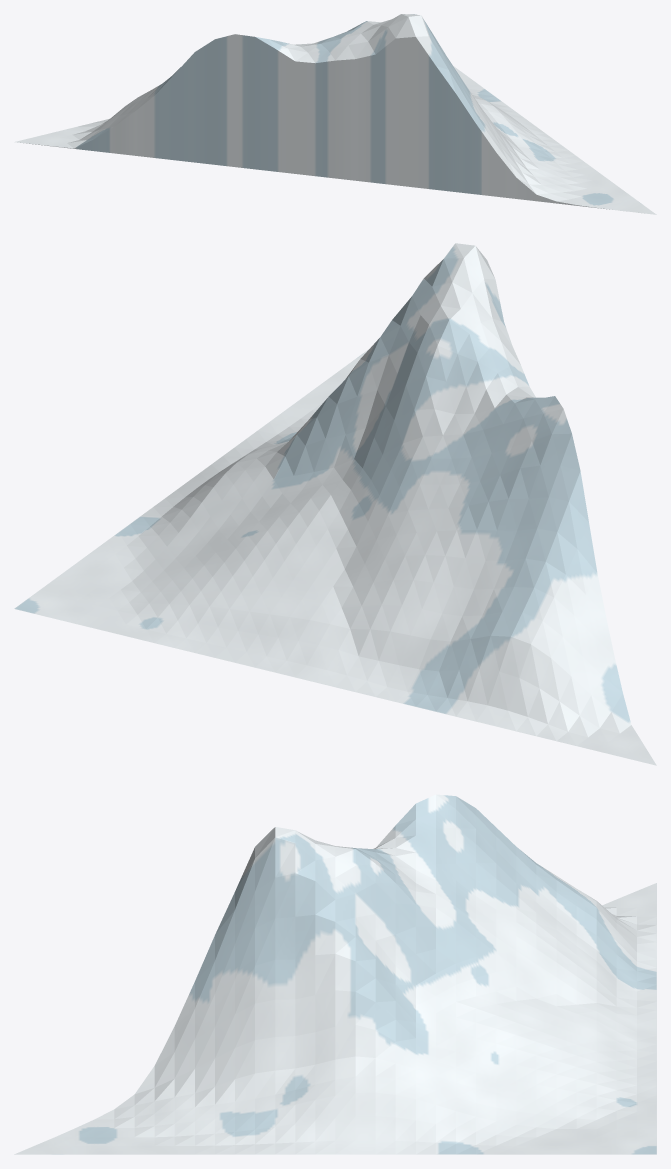
Rendered from Snow_Mountains_02_SE.obj.
The picture shows the model from 3 angles, top to bottom: view 1: azimuth 30°, elevation 25°; view 2: azimuth 150°, elevation 25°; view 3: azimuth 270°, elevation 25°; orthographic projection. The views are drawn at different scales.
Size of the model in its own units: 10 by 3.87 by 10.
Materials: 1 (1 with a texture image).
